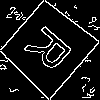R: (23, 23, 82, 81)
